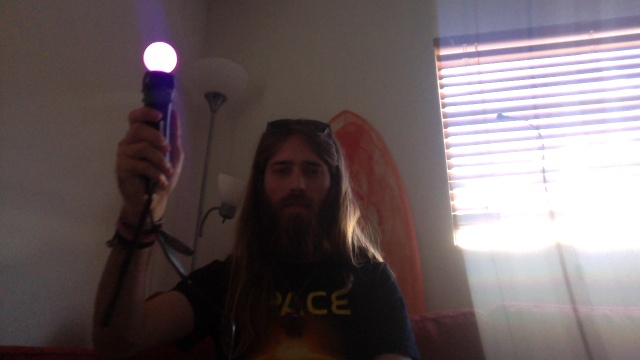wand: (144, 43, 178, 74)
